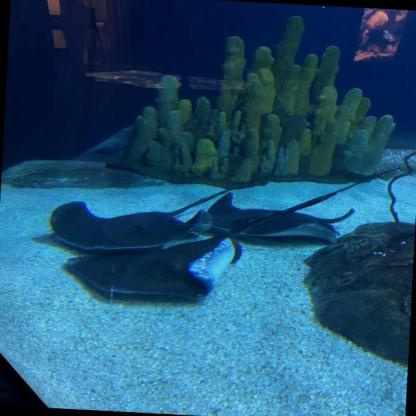stingray: (63, 228, 240, 300), (50, 199, 197, 254), (201, 191, 342, 243)
